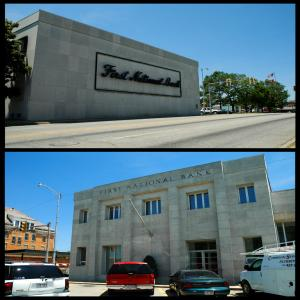Vehicle-registration-plate: (37, 285, 48, 290), (206, 291, 215, 296), (126, 286, 135, 290)
